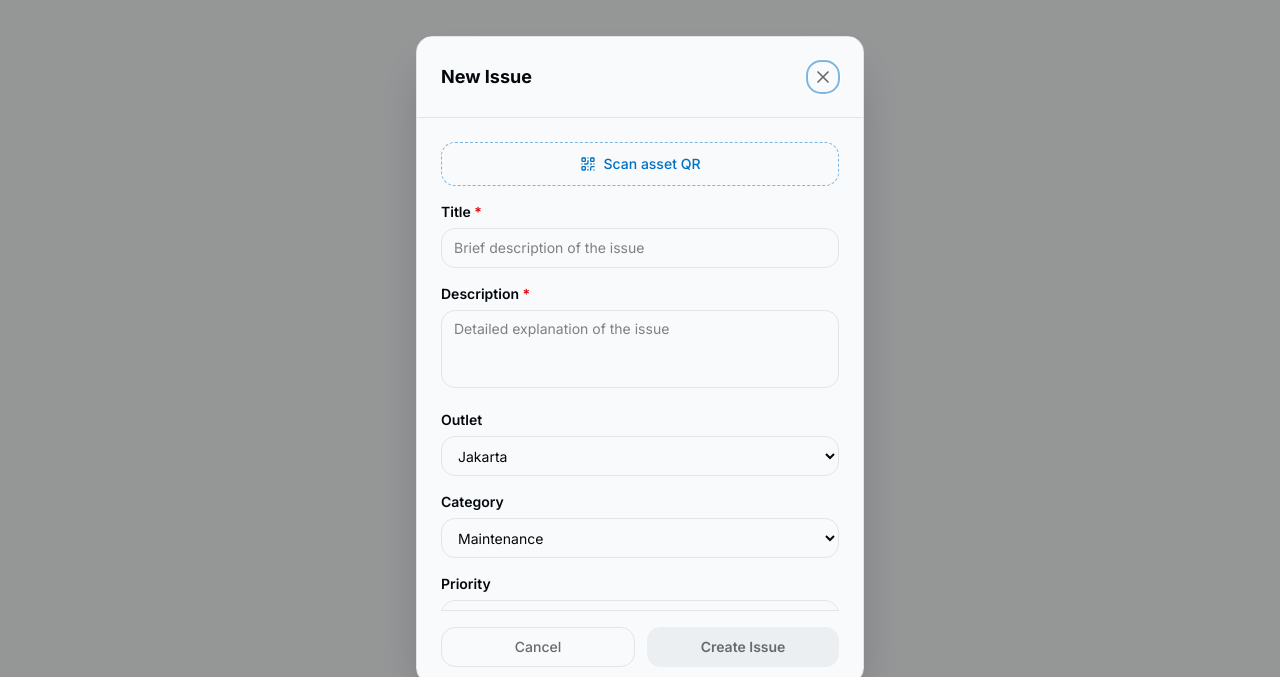
full form extras (Todo-Pilot §20) › a scanned asset QR picks the work-order asset
The width and height of the screenshot is (1280, 677).
Click the button "Scan asset QR": (640,164) [441,142,839,186]
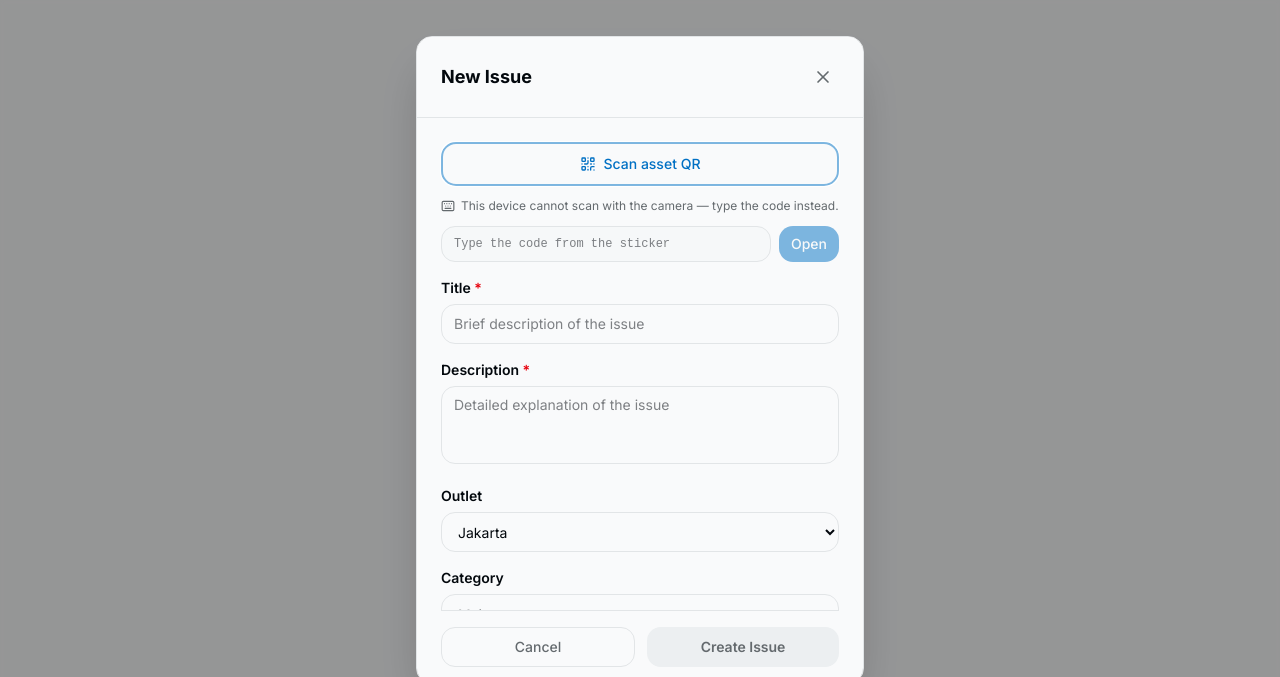
In the field with placeholder "Type the code from the sticker": (606,244) [441,226,771,262], type "tok-1"
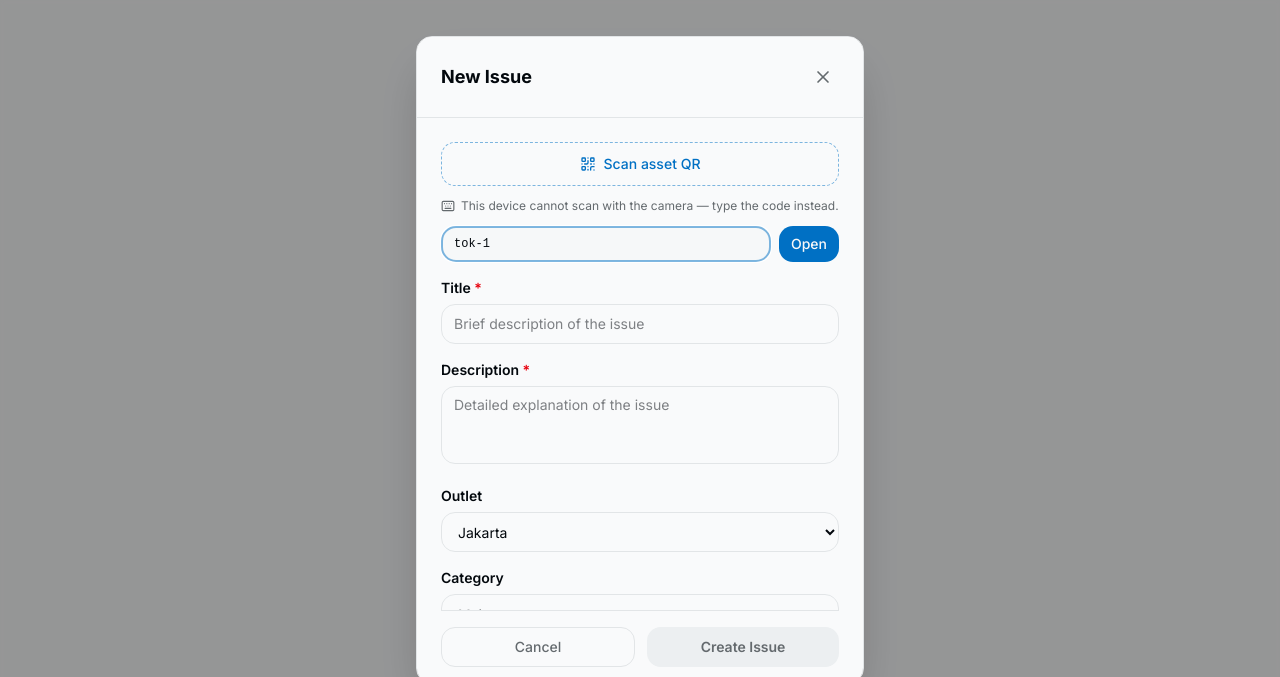
Click the button "Open": (809,244) [779,226,839,262]
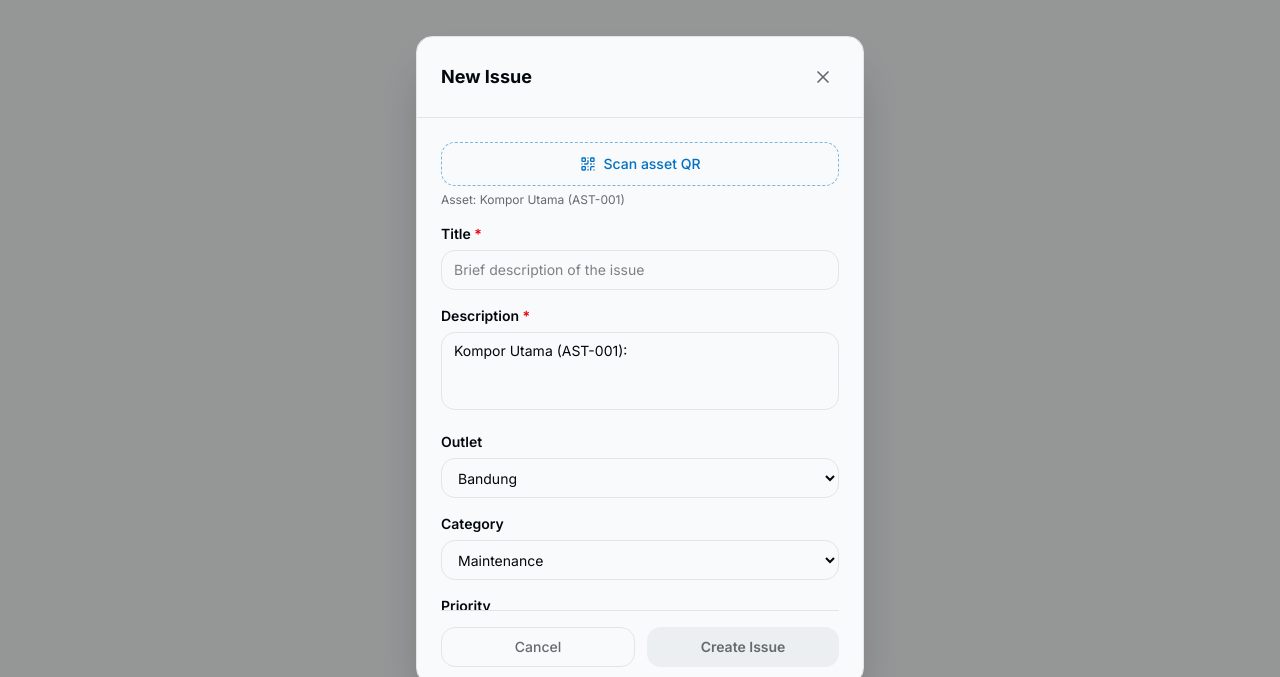
Result: the dropdown labelled "Outlet" shows "Bandung" at [441,458,839,498]
